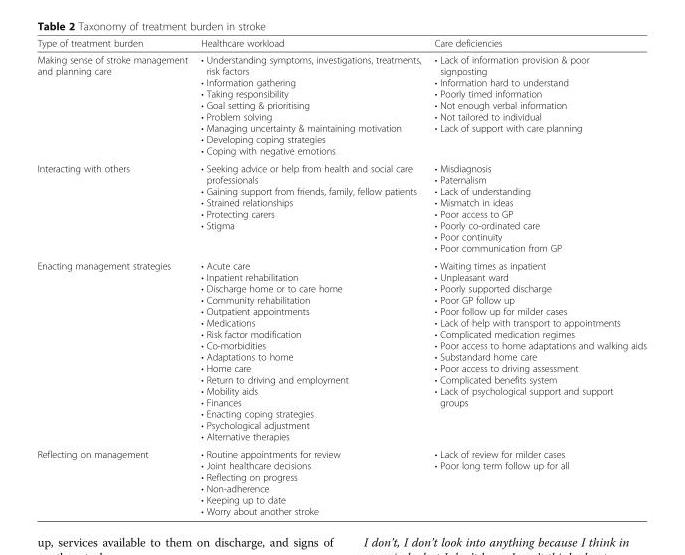table: (36, 37, 646, 516)
table column: (193, 37, 427, 516), (427, 37, 646, 516), (36, 37, 193, 516)
table column header: (36, 37, 646, 51)
table row: (36, 256, 646, 445), (36, 51, 646, 159), (36, 159, 646, 256), (36, 445, 646, 516), (36, 37, 646, 51)
